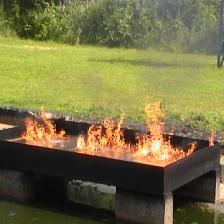fire: (77, 101, 196, 162), (22, 107, 69, 145), (208, 129, 215, 147)
